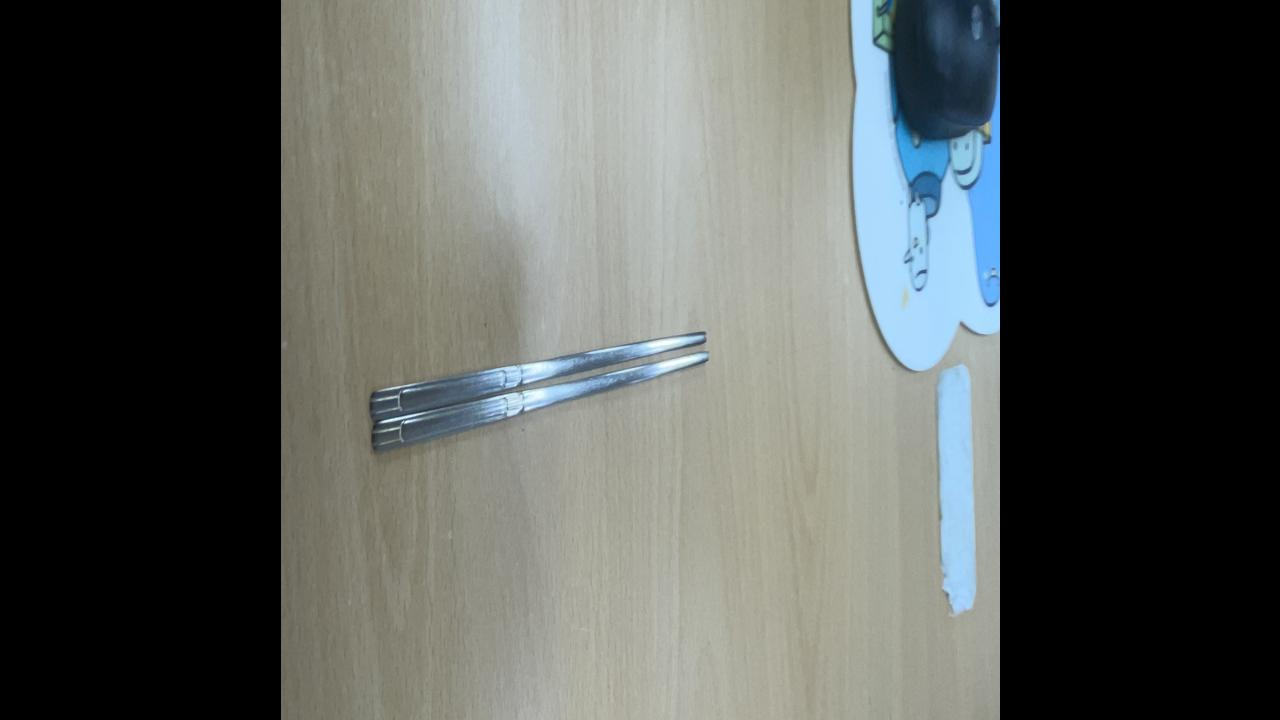chopstick: (364, 327, 709, 451)
